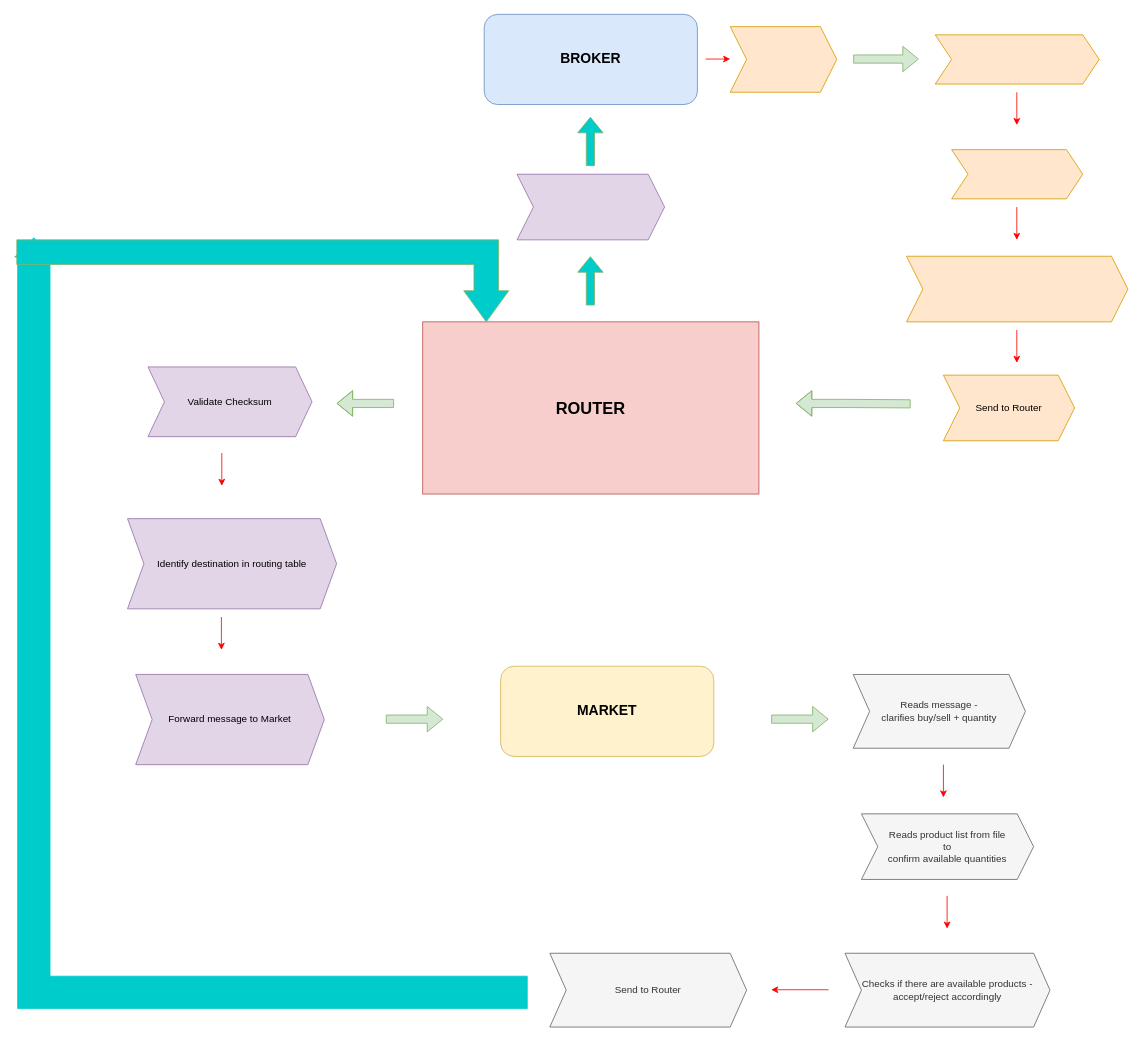
This 1142x1041 diagram has some shape labels left out. The shapes that lost their labels are listed below. From the top down, each one's box as (x1, y1, x2, y2) in pixels, then its label:
(729, 26, 837, 92): New Broker connects
(934, 34, 1099, 84): Read FIX message from file
(951, 149, 1083, 199): Create ID
(516, 173, 665, 240): Send to Broker
(906, 255, 1128, 322): Validate format + Calculate Checksum
